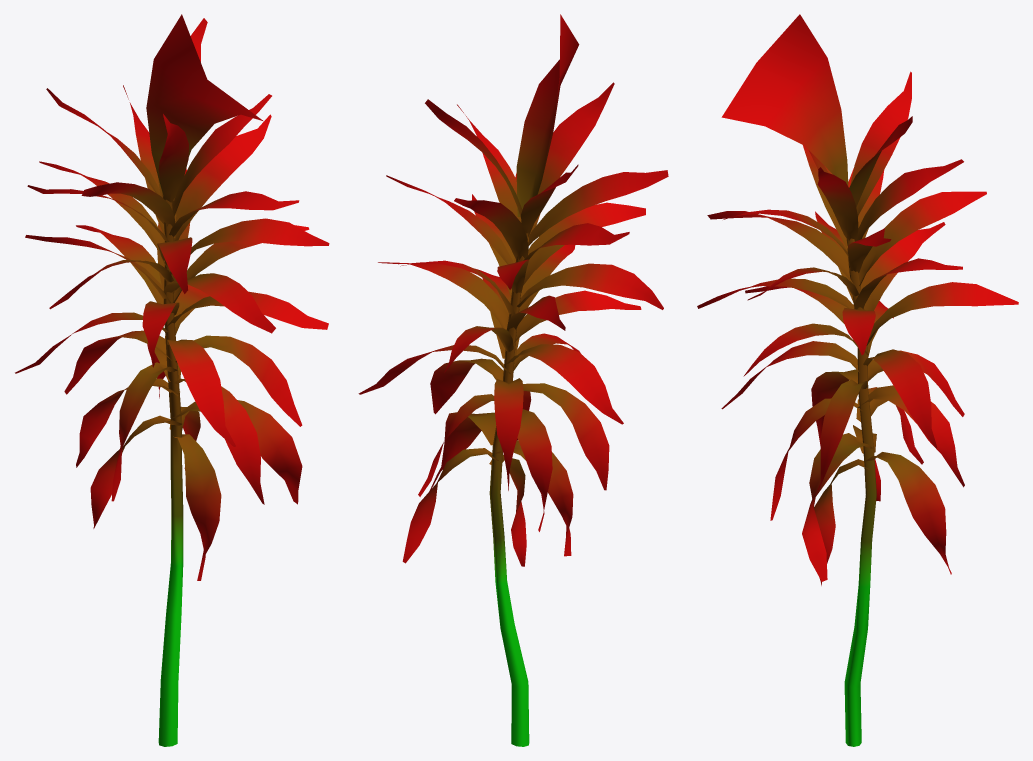
The model's file is Dragon Tree_LOD0_Var1_siumT.fbx.
3 views of the same model, side by side, from view 1: azimuth 30°, elevation 25°; view 2: azimuth 150°, elevation 25°; view 3: azimuth 270°, elevation 25° (orthographic). The views are drawn at different scales.
Visible parts, largest first — view 1: _ec5e_Var1_LOD0; view 2: _ec5e_Var1_LOD0; view 3: _ec5e_Var1_LOD0.
Boxes of the visible parts, x1,y1,x2,y2 form: _ec5e_Var1_LOD0: (15,14,329,746); _ec5e_Var1_LOD0: (358,14,668,746); _ec5e_Var1_LOD0: (697,14,1018,746).
Bounding box in the file's own units: 52.32 × 134 × 54.06.
